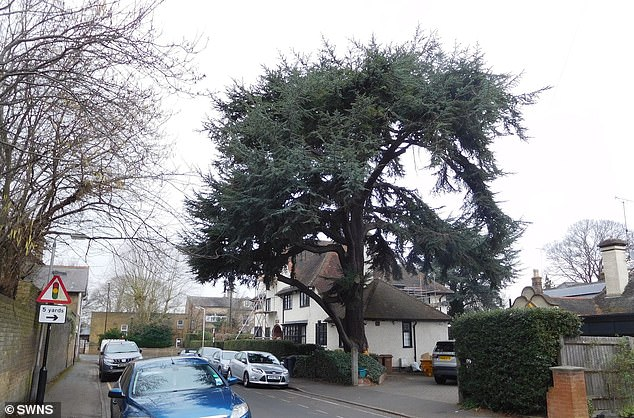tree: (174, 18, 554, 390), (1, 1, 209, 293)
